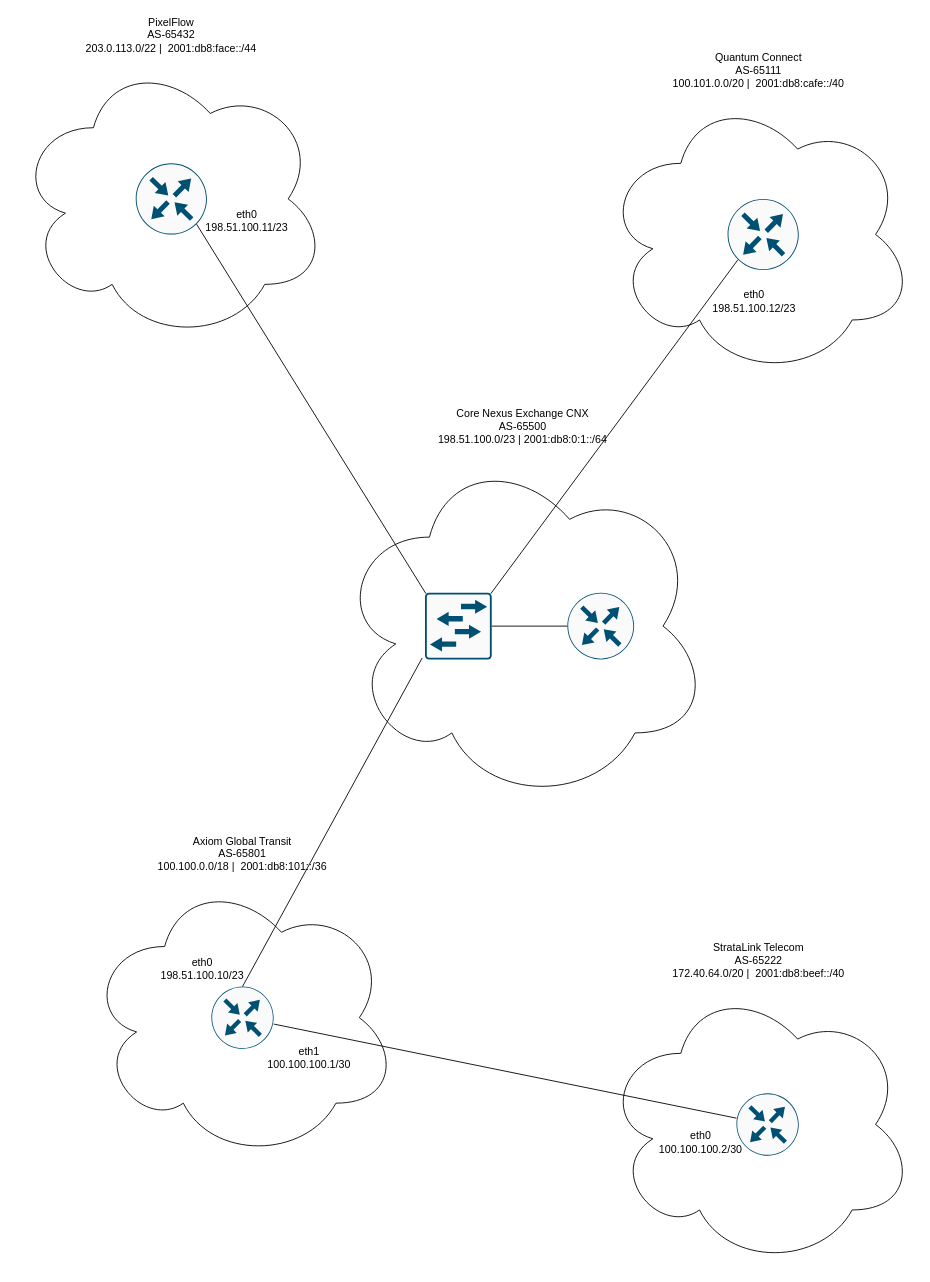
This 930x1282 diagram has some shape labels left out. The shapes that lost their labels are listed below. From the top down, each one's centre as x and y in pixels, then its label:
At (x=458, y=625): "IX L2 Fabric".
At (x=600, y=625): "Route Server 198.51.100.1/23".
